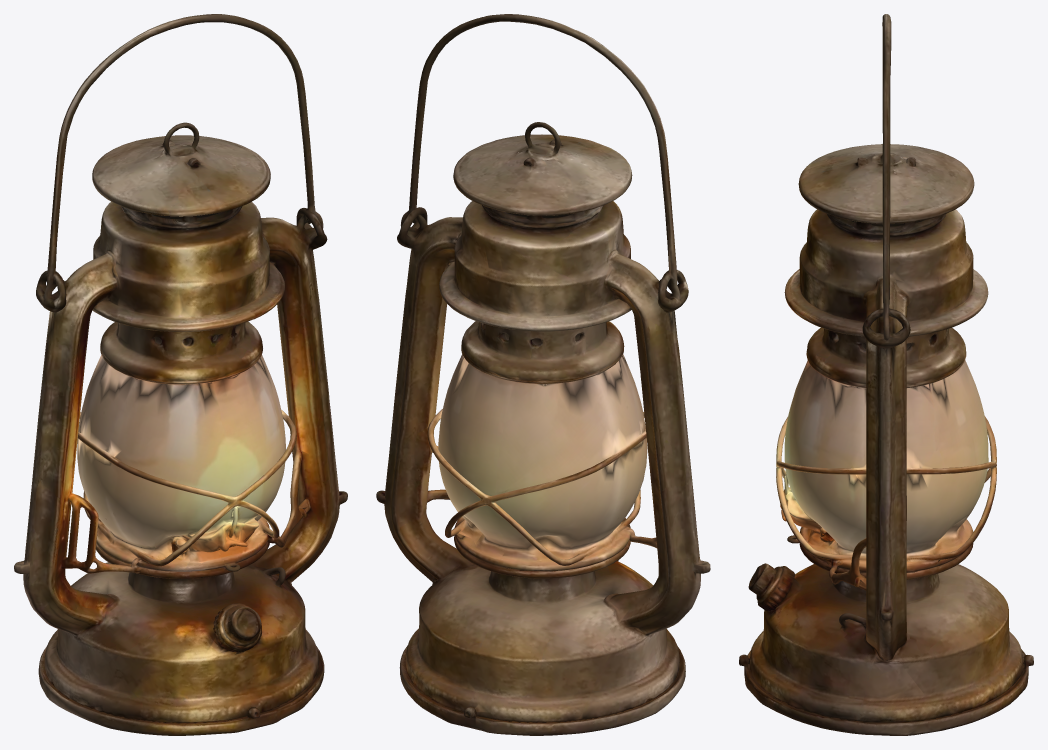
File: lantern.glb
The picture shows the model from 3 angles, left to right: view 1: azimuth 30°, elevation 25°; view 2: azimuth 150°, elevation 25°; view 3: azimuth 270°, elevation 25°; orthographic projection.
Parts seen in each view (by area): view 1: node_9d8e6328-4a5f-4b85-97ed-bd0f8accc383; view 2: node_9d8e6328-4a5f-4b85-97ed-bd0f8accc383; view 3: node_9d8e6328-4a5f-4b85-97ed-bd0f8accc383.
Boxes of the visible parts, left/top/right/bottom form: node_9d8e6328-4a5f-4b85-97ed-bd0f8accc383: left=14, top=14, right=347, bottom=735; node_9d8e6328-4a5f-4b85-97ed-bd0f8accc383: left=376, top=14, right=710, bottom=735; node_9d8e6328-4a5f-4b85-97ed-bd0f8accc383: left=739, top=14, right=1033, bottom=735.
Bounding box in the file's own units: 0.5178 × 0.9792 × 0.404.
1 material, 1 textured.
